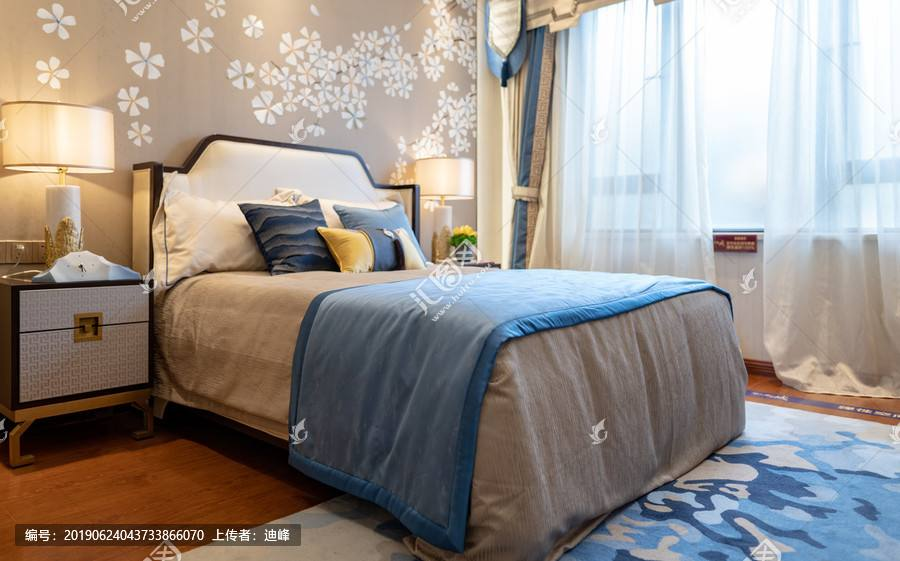床: (148, 262, 743, 530)
枕头: (153, 187, 423, 276)
灯: (4, 93, 114, 277), (408, 155, 480, 259)
